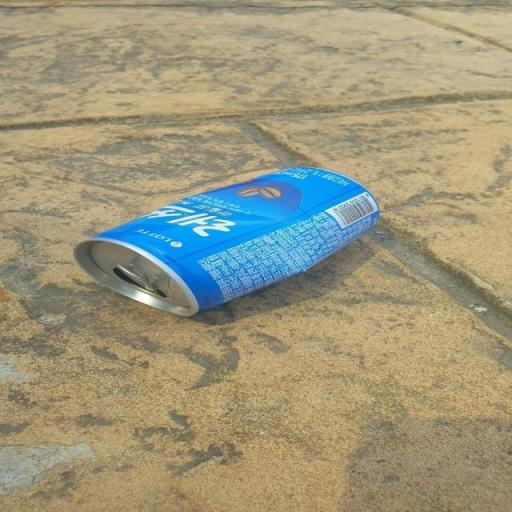metal: (21, 133, 452, 360)
